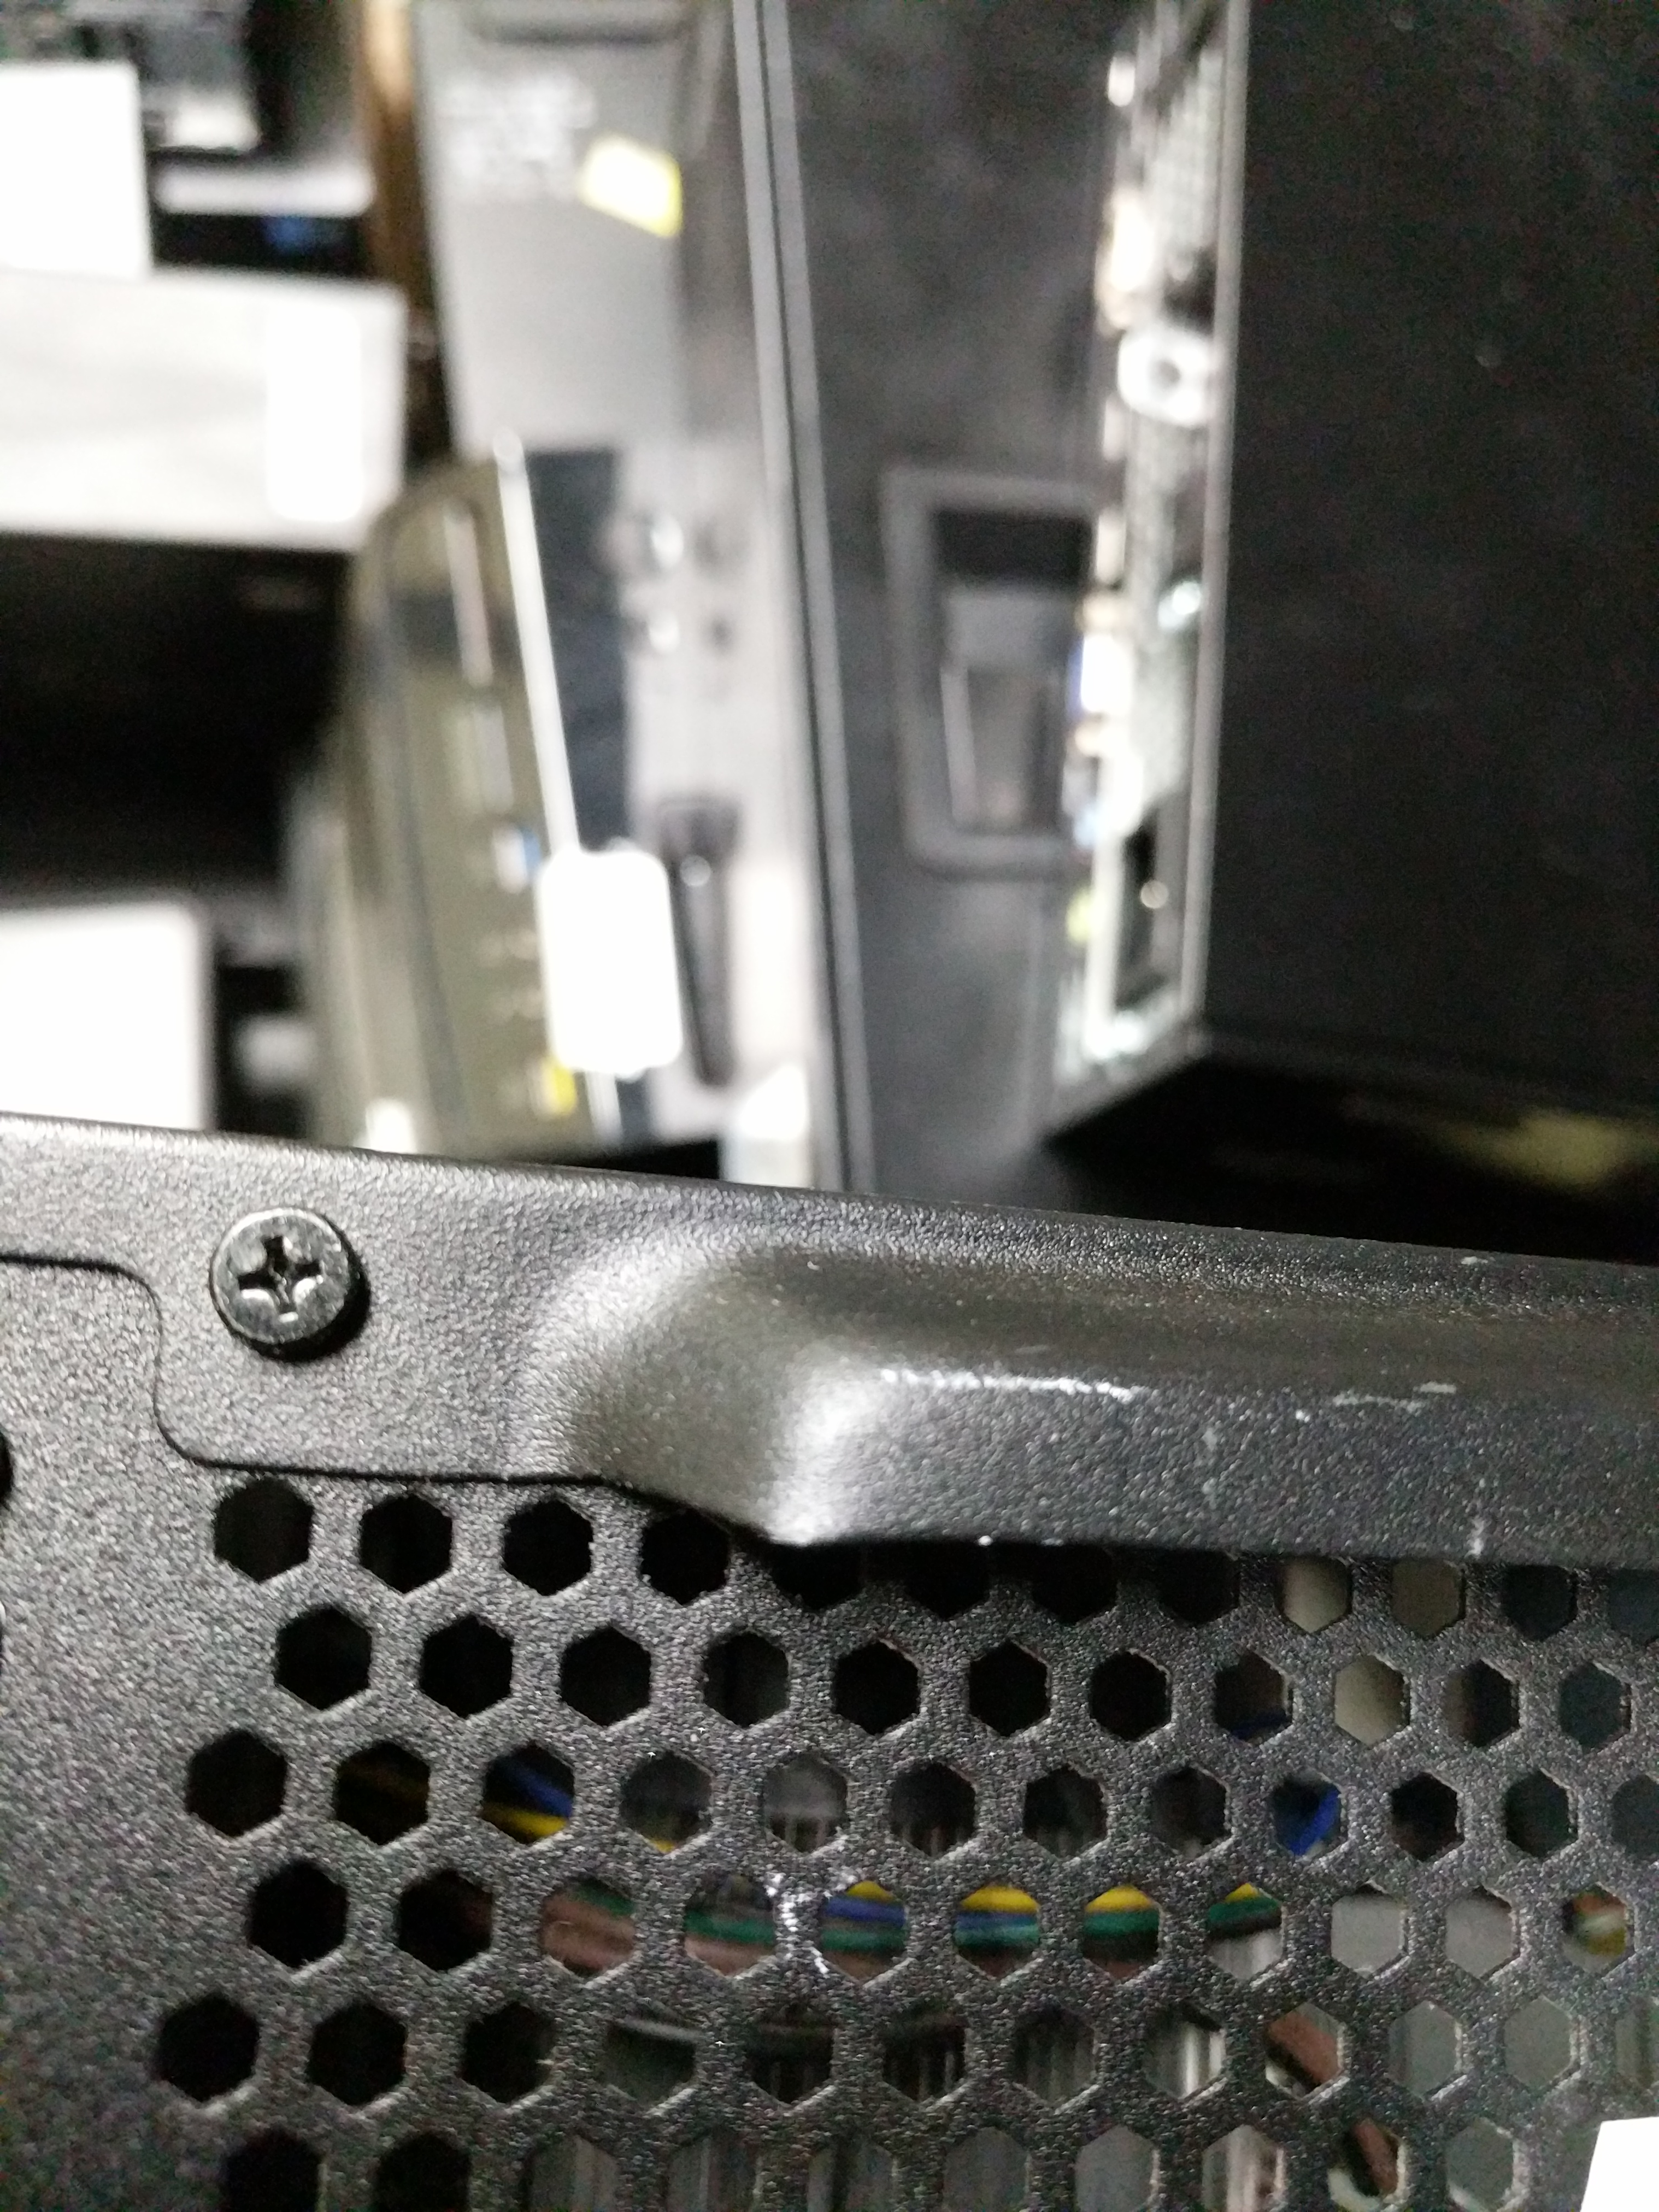cross_recessed_screw: (195, 1183, 369, 1362)
